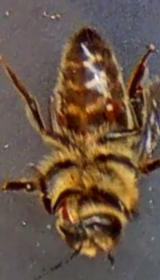varroa_mite: (98, 88, 124, 126)
